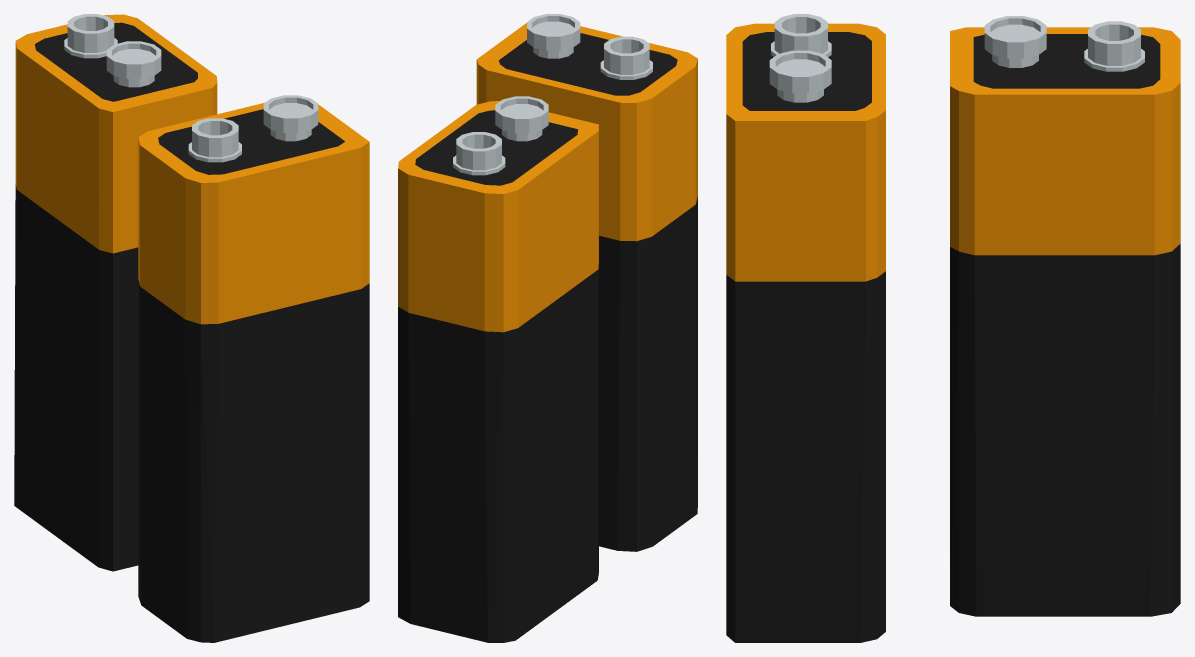
The model's file is baterai_6V_kotak.glb.
3 views of the same model, side by side, from view 1: azimuth 30°, elevation 25°; view 2: azimuth 150°, elevation 25°; view 3: azimuth 270°, elevation 25° (orthographic). The views are drawn at different scales.
Visible parts, largest first — view 1: Node; view 2: Node; view 3: Node.
Boxes of the visible parts, x1,y1,x2,y2 form: Node: (14,14,369,642); Node: (398,14,697,642); Node: (726,14,1180,642).
Size of the model in its own units: 0.26 by 0.6868 by 0.5125.
